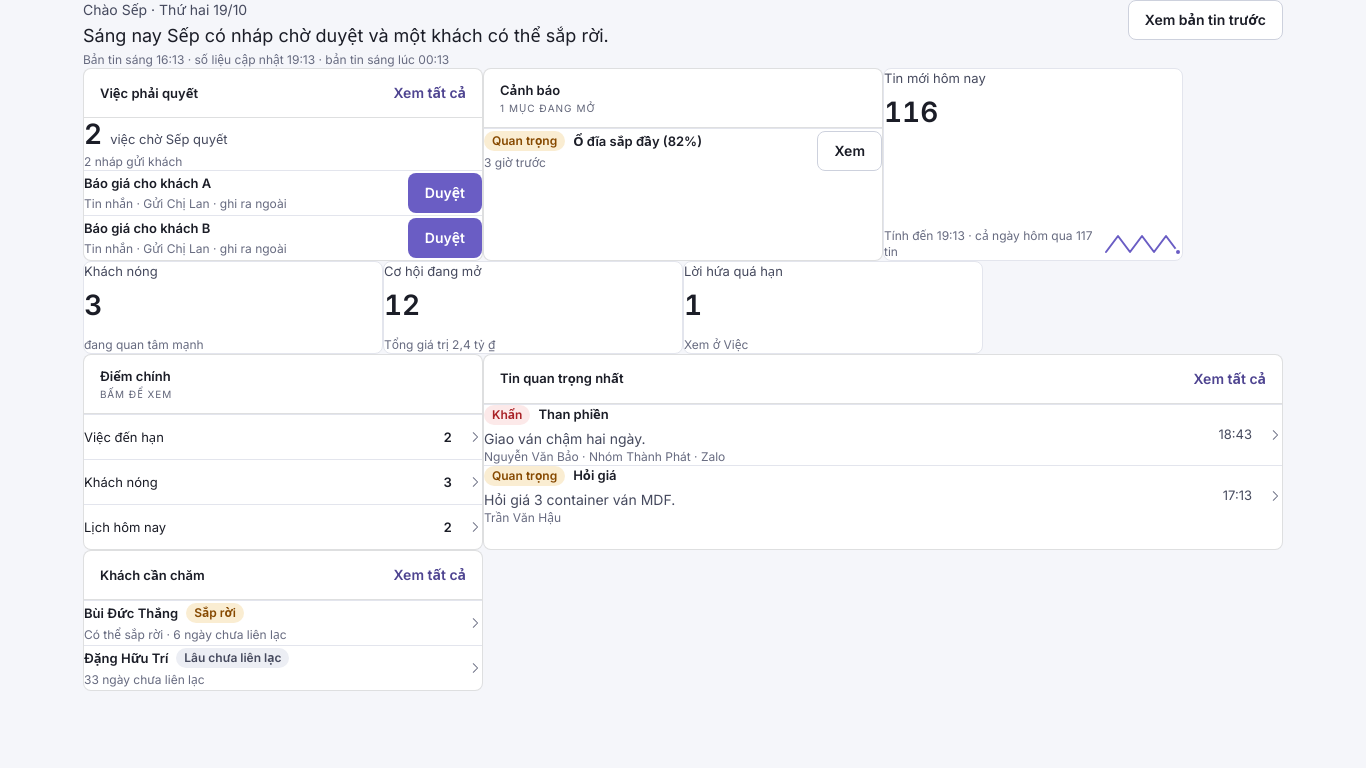
Tình báo (/owner) › Duyệt nháp ở "Việc phải quyết" → ngăn DraftDecide → mã PIN → nháp biến mất và số giảm
expect the text with test id "intel-decide-count" reads "2": met, box [84,117,102,151]
expect the number of list items with test id "intel-decide-row-draft" is 2: met, box [84,170,482,215]; [84,215,482,260]
Click the button "Duyệt" in the row of "Báo giá cho khách A": (445,193) [408,173,482,213]
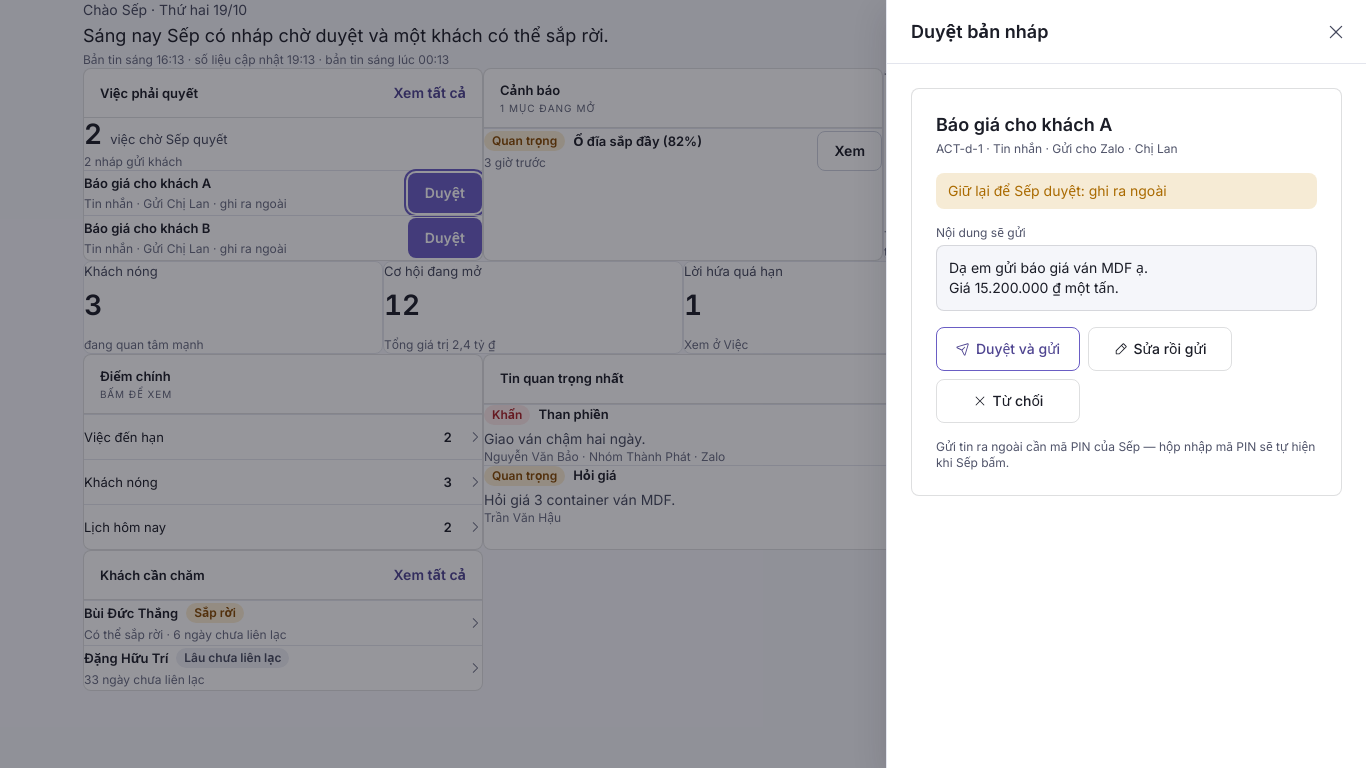
expect the text with test id "owner-draft-text" shows "Dạ em gửi báo giá ván MDF ạ.": met, box [949,259,1148,296]
Click the button "Duyệt và gửi": (1008,349) [936,327,1080,371]
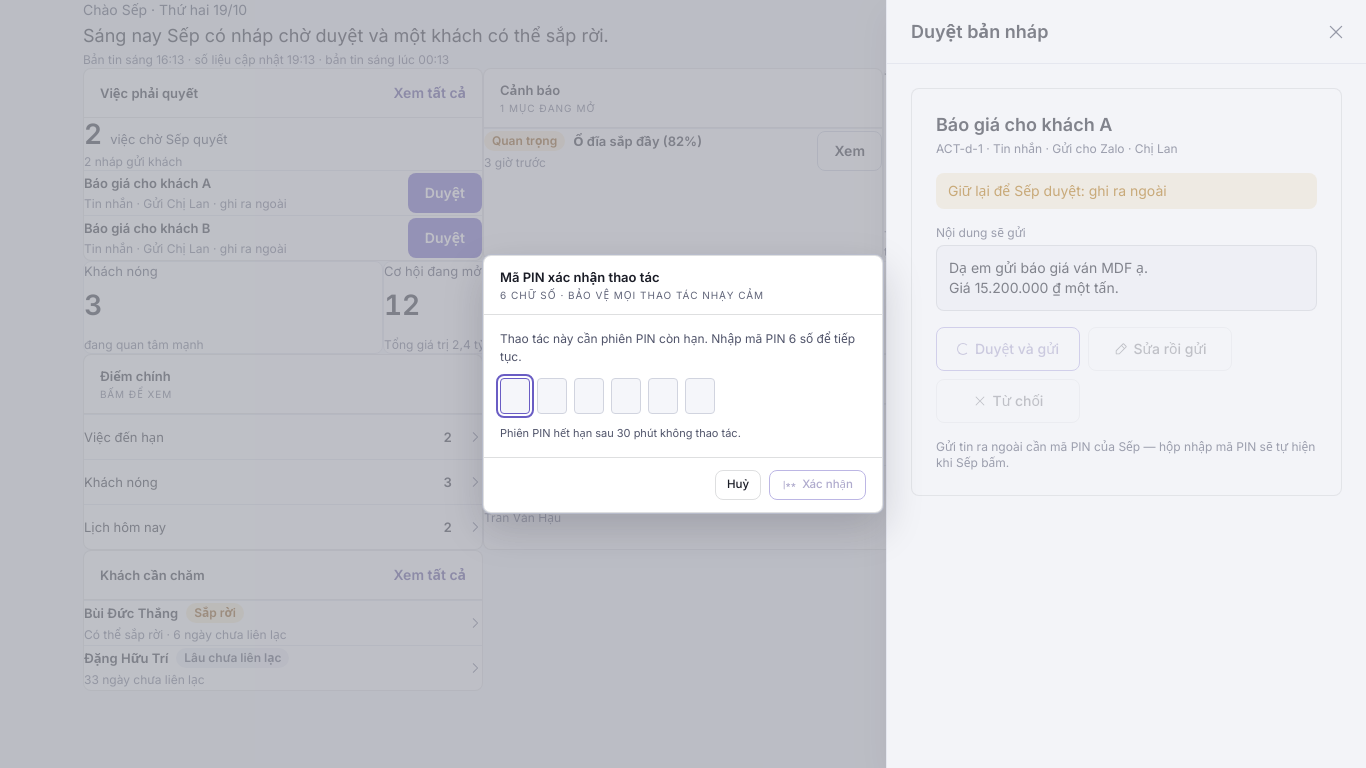
expect the dialog "Mã PIN xác nhận thao tác" is shown: met, box [483,255,883,513]
Type keys "246810"
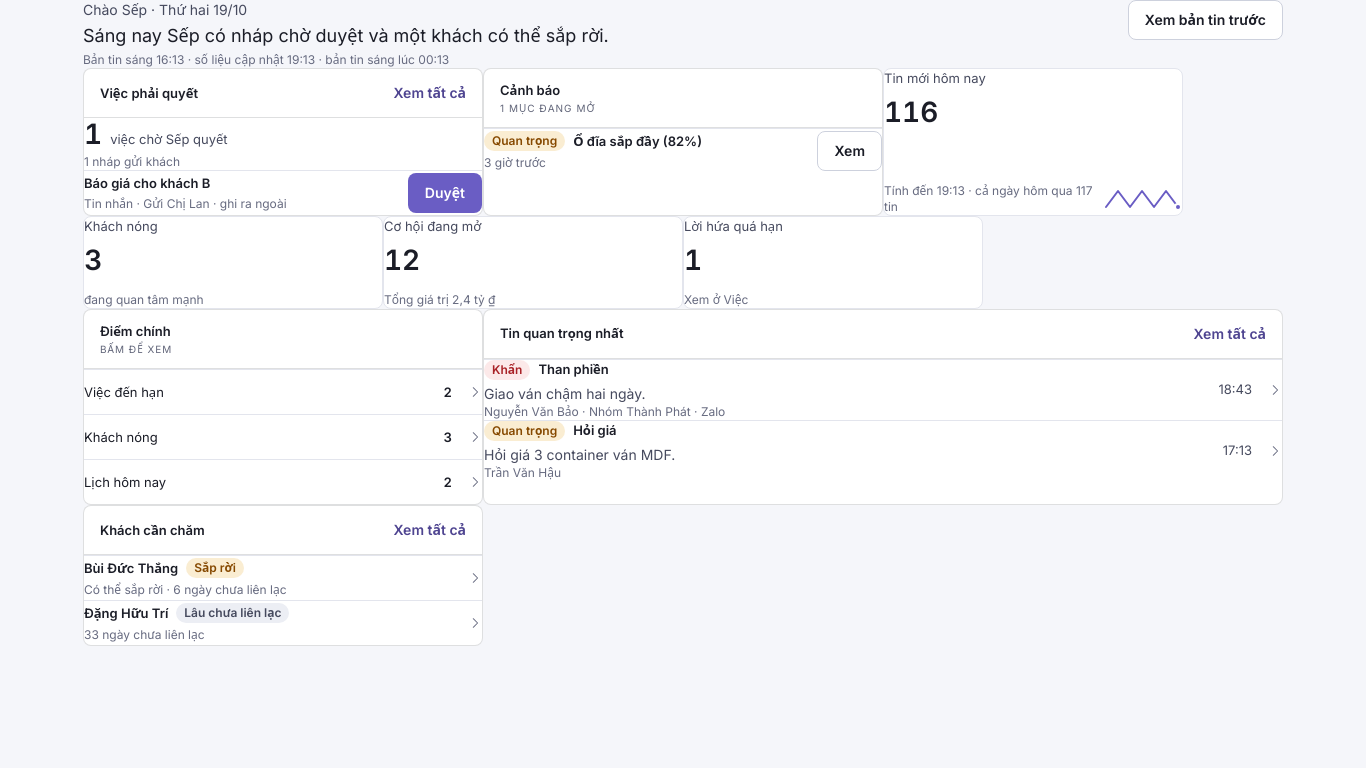
expect the heading "Duyệt bản nháp" is gone: met
expect the text with test id "intel-decide-count" reads "1": met, box [84,117,102,151]
expect the number of list items with test id "intel-decide-row-draft" is 1: met, box [84,170,482,215]
